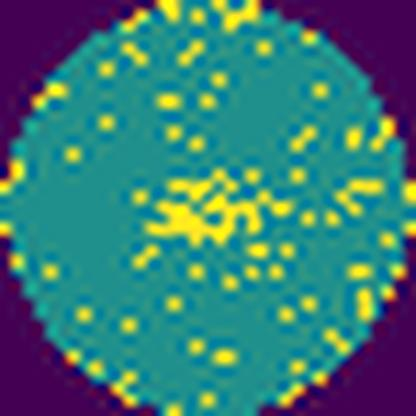Center: (140, 163, 272, 248)
